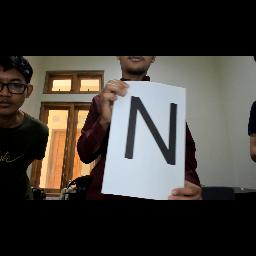n: (119, 89, 181, 169)
